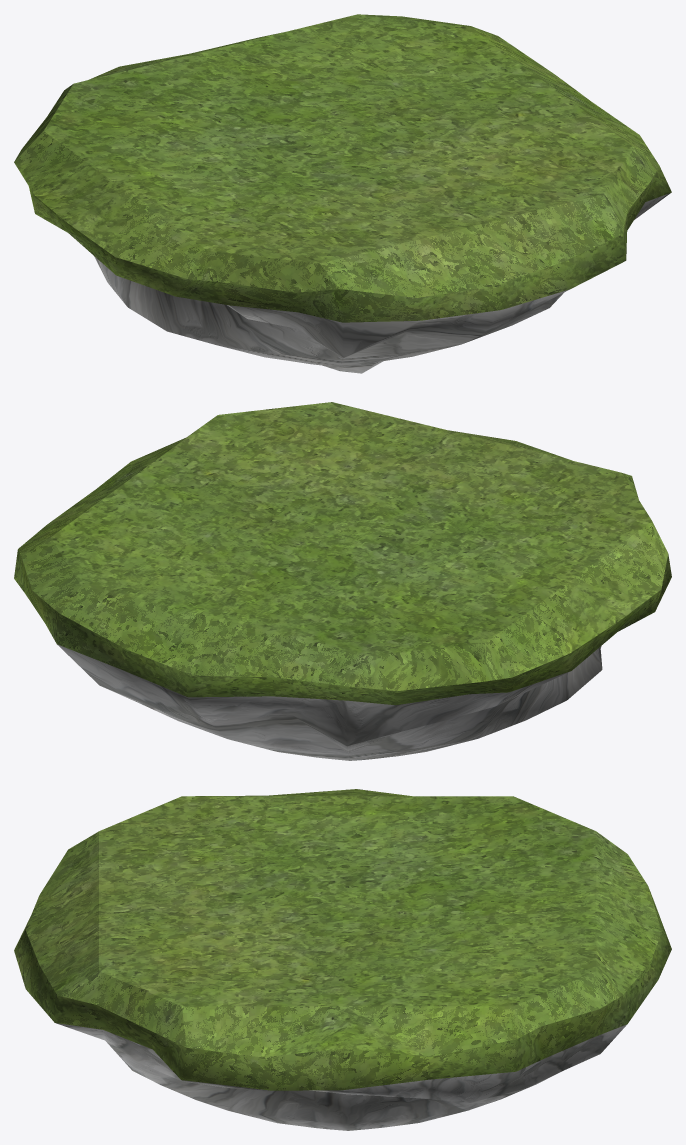
File: Island_empty.FBX
3 views of the same model, one above another, from view 1: azimuth 30°, elevation 25°; view 2: azimuth 150°, elevation 25°; view 3: azimuth 270°, elevation 25° (orthographic).
Parts seen in each view (by area): view 1: Object023; view 2: Object023; view 3: Object023.
Boxes of the visible parts, x1,y1,x2,y2 form: Object023: (14,14,671,373); Object023: (14,402,671,760); Object023: (14,789,671,1130).
Size of the model in its own units: 1532 by 562 by 1588.
